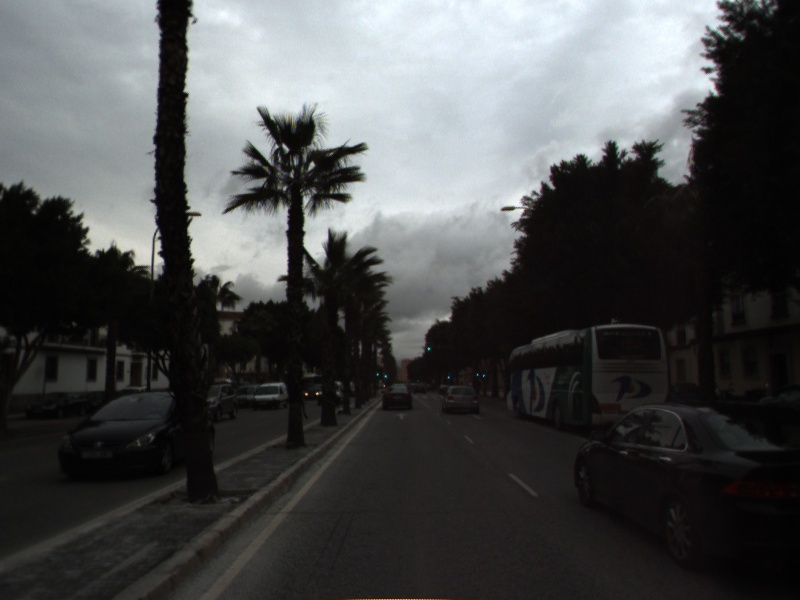STRAIGHT: (392, 410, 411, 421)
